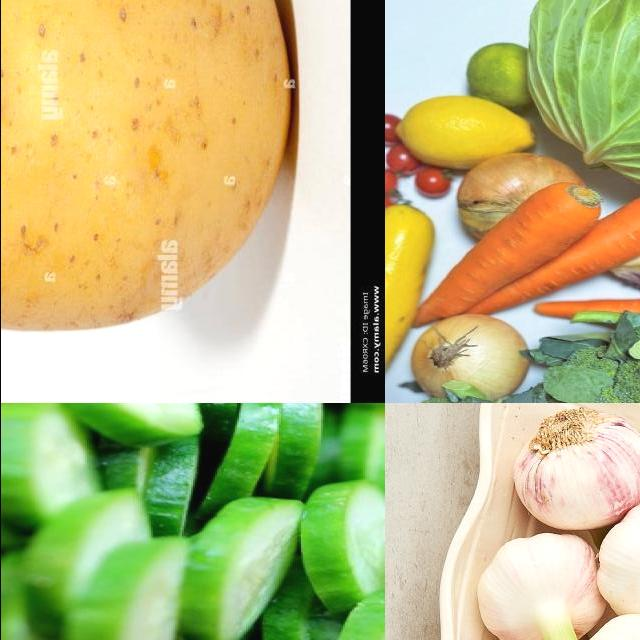cabbage: (533, 1, 640, 192)
carrot: (411, 182, 603, 340), (471, 192, 640, 335), (536, 295, 640, 335)
cucumber: (28, 495, 156, 640), (182, 502, 306, 640), (76, 539, 191, 640), (310, 484, 385, 616), (61, 404, 205, 445), (264, 404, 324, 498)
garlic: (509, 406, 640, 538), (476, 533, 611, 640), (591, 497, 640, 624)
onion: (457, 154, 590, 240), (413, 311, 530, 404)
potato: (1, 1, 294, 333)
